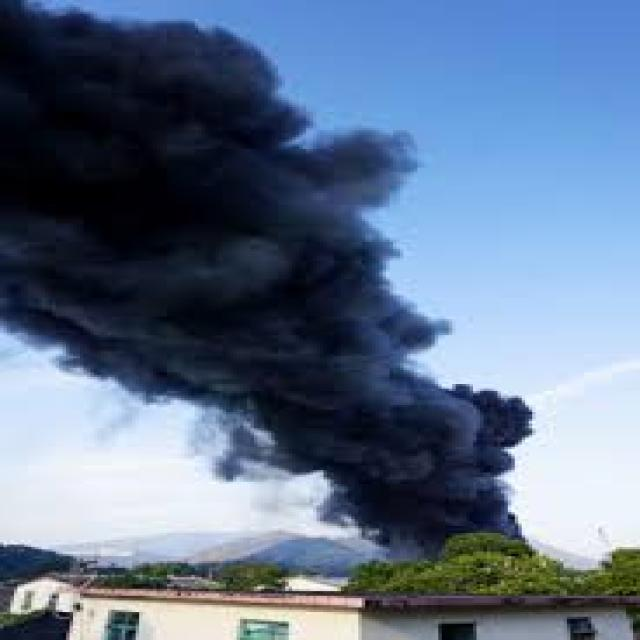smoke: (22, 75, 310, 357), (316, 380, 464, 533)
